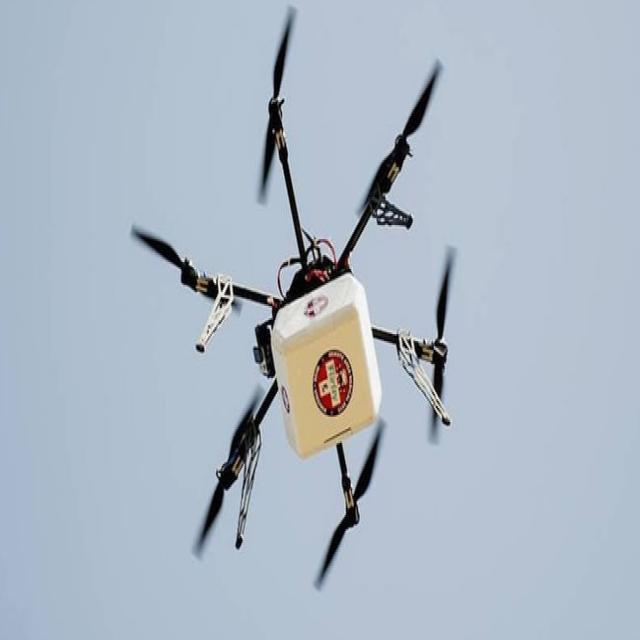drone: (138, 39, 468, 576)
